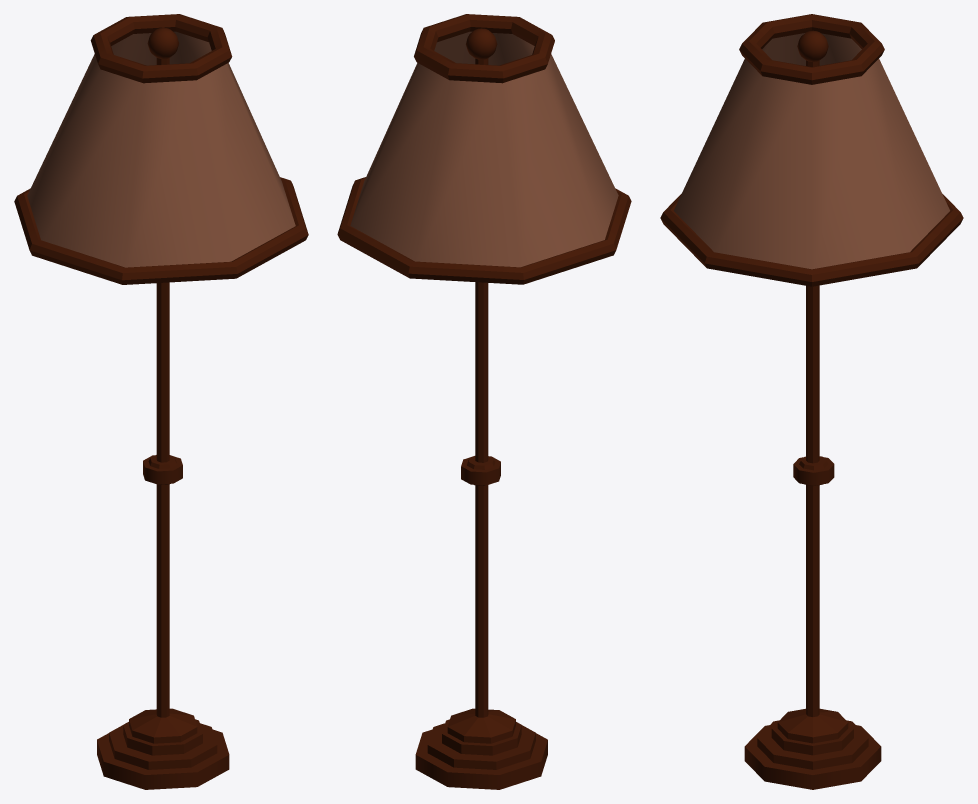
Rendered from OBJ_stand.fbx.
3 views of the same model, side by side, from view 1: azimuth 30°, elevation 25°; view 2: azimuth 150°, elevation 25°; view 3: azimuth 270°, elevation 25° (orthographic).
Visible parts, largest first — view 1: Cylinder008, Object001; view 2: Cylinder008, Object001; view 3: Cylinder008, Object001.
Part boxes in pixels (x1,y1,x2,y2): Cylinder008: (14,14,308,484); Object001: (97,58,229,789); Cylinder008: (337,14,631,485); Object001: (415,58,547,789); Cylinder008: (660,14,963,485); Object001: (744,60,881,789).
Bounding box in the file's own units: 32.92 × 87.32 × 32.92.
